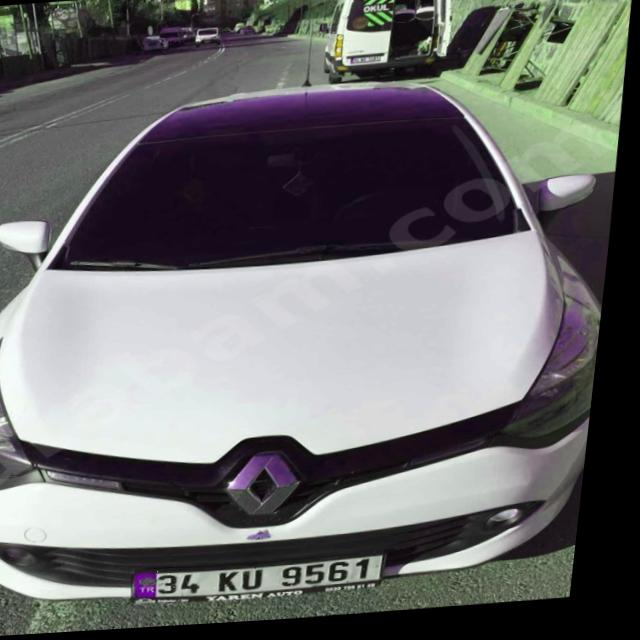license_plate: (143, 559, 398, 603)
